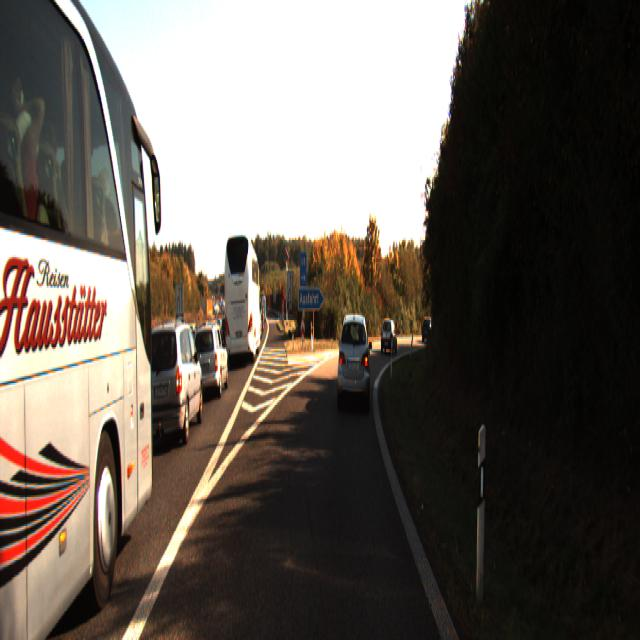Car: (0, 0, 159, 639), (140, 318, 203, 450), (222, 226, 260, 366), (337, 308, 371, 409), (192, 322, 229, 400), (379, 317, 398, 354), (421, 312, 436, 338)
